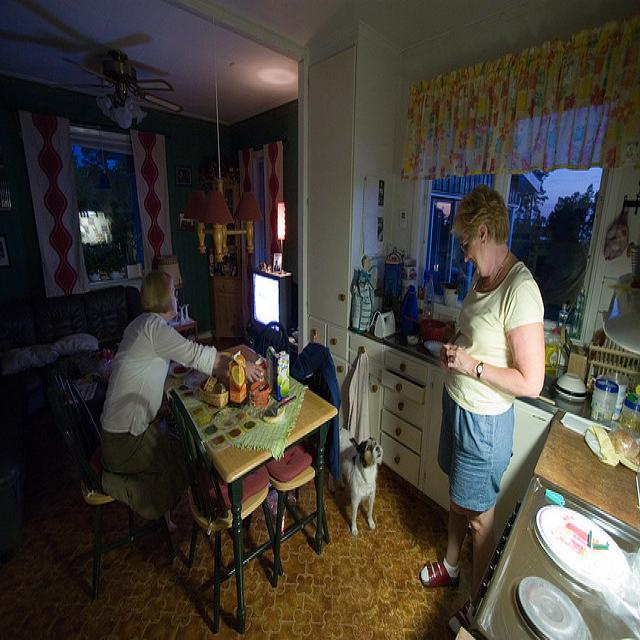chair: (46, 370, 175, 602), (165, 396, 275, 629), (267, 372, 333, 585), (254, 321, 290, 358)
dining table: (167, 345, 333, 632)
